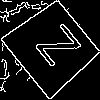Z: (27, 22, 82, 75)
